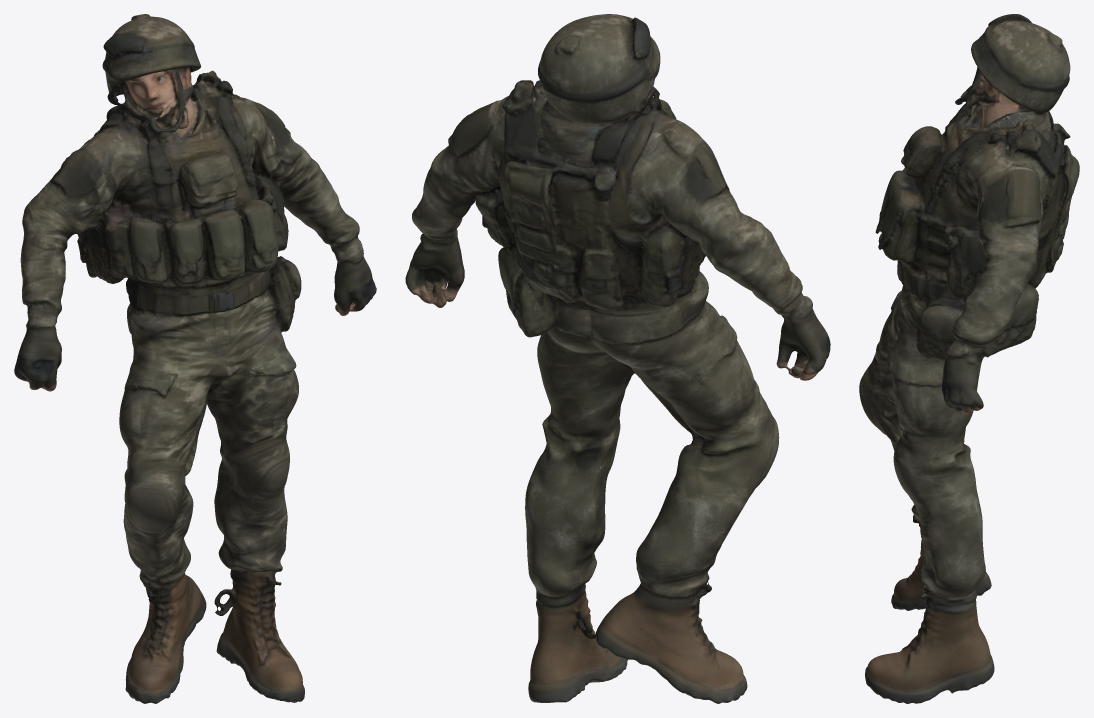
Rendered from Meshy_AI_Resting_Soldier_in_Fu_0517192652_texture.fbx.
The picture shows the model from 3 angles, left to right: view 1: azimuth 30°, elevation 25°; view 2: azimuth 150°, elevation 25°; view 3: azimuth 270°, elevation 25°; orthographic projection. The views are drawn at different scales.
Visible parts, largest first — view 1: Mesh_0; view 2: Mesh_0; view 3: Mesh_0.
Part boxes in pixels (x1,y1,x2,y2): Mesh_0: (14, 14, 376, 703); Mesh_0: (405, 14, 830, 703); Mesh_0: (859, 14, 1079, 703).
Size of the model in its own units: 117 by 200 by 63.08.
1 material, 1 textured.
